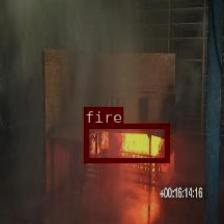fire: (84, 124, 168, 162)
